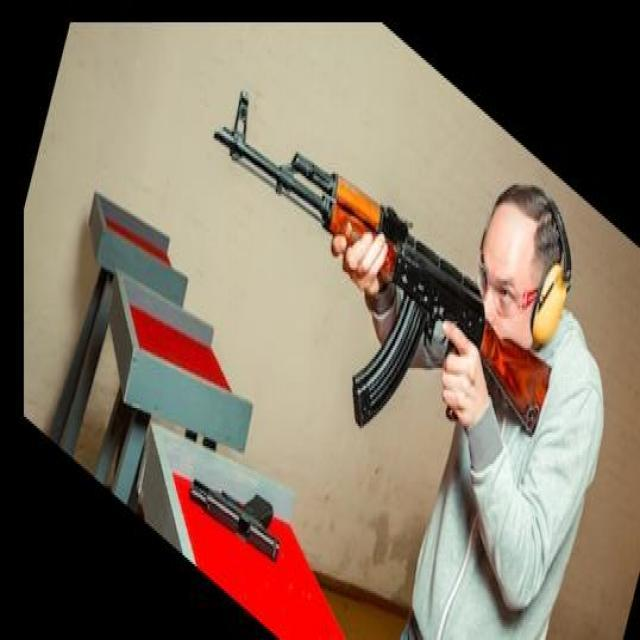weapon: (213, 86, 554, 439)
